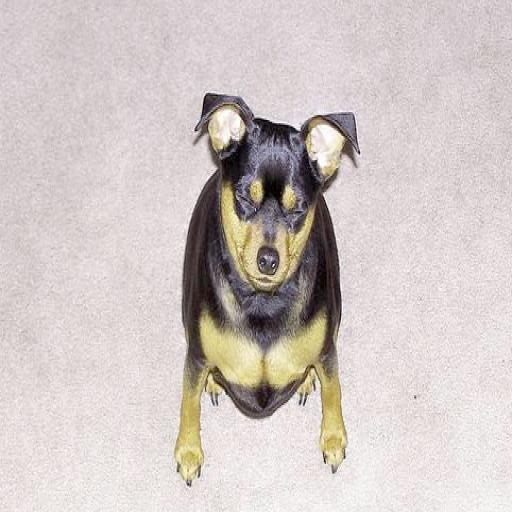dog_face: (190, 84, 360, 302)
